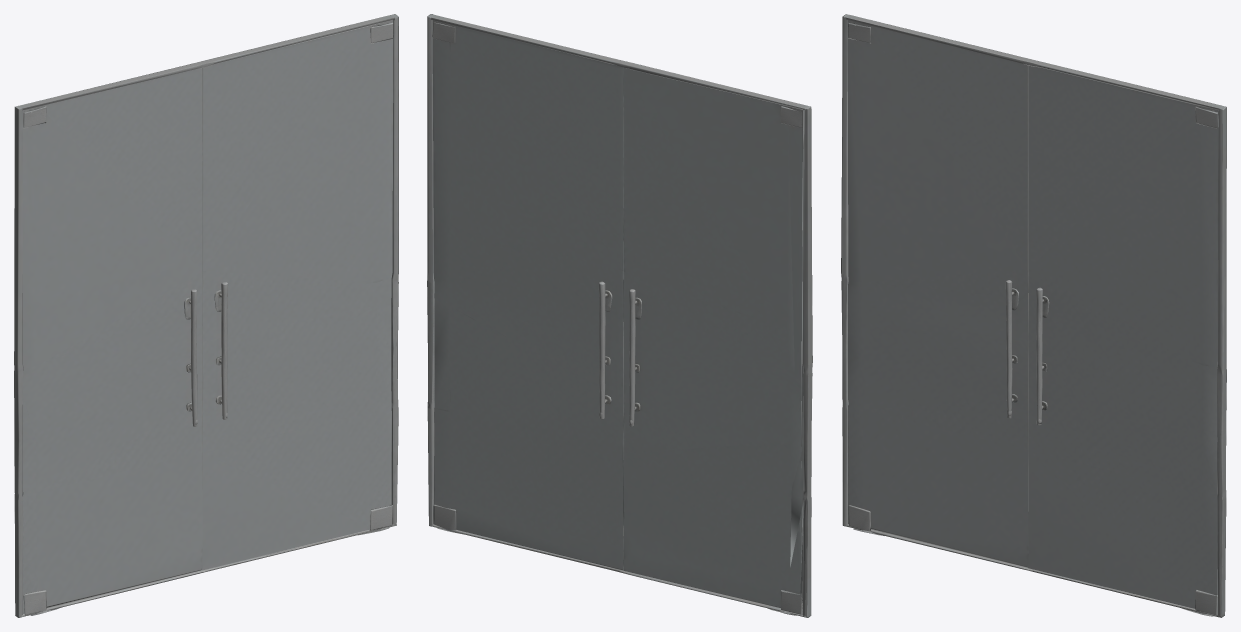
File: Meshy_AI_frosted_executive_glass_door_0903105709_texture.glb
The picture shows the model from 3 angles, left to right: view 1: azimuth 30°, elevation 25°; view 2: azimuth 150°, elevation 25°; view 3: azimuth 330°, elevation 25°; orthographic projection.
Visible parts, largest first — view 1: mesh_node; view 2: mesh_node; view 3: mesh_node.
Boxes of the visible parts, bbox=[...] form: mesh_node: bbox=[14, 14, 398, 617]; mesh_node: bbox=[427, 14, 812, 617]; mesh_node: bbox=[841, 14, 1226, 617].
Bounding box in the file's own units: 0.7852 × 1 × 0.0576.
1 material, 1 textured.
